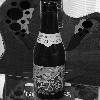beer: (33, 2, 66, 96)
